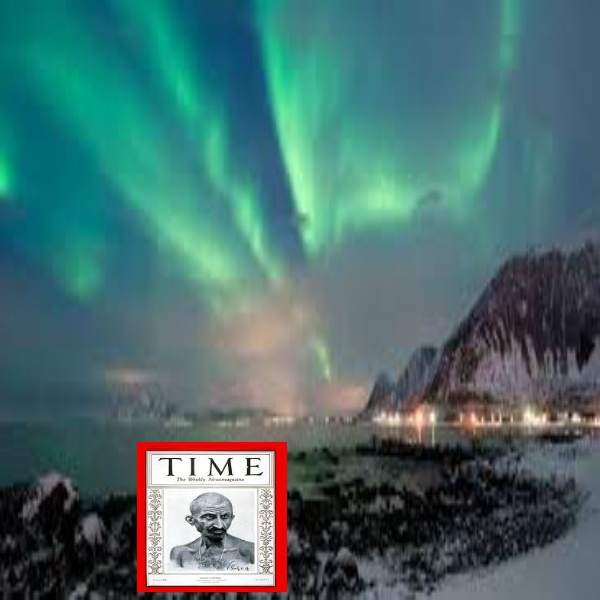time_cover: (138, 435, 284, 584)
